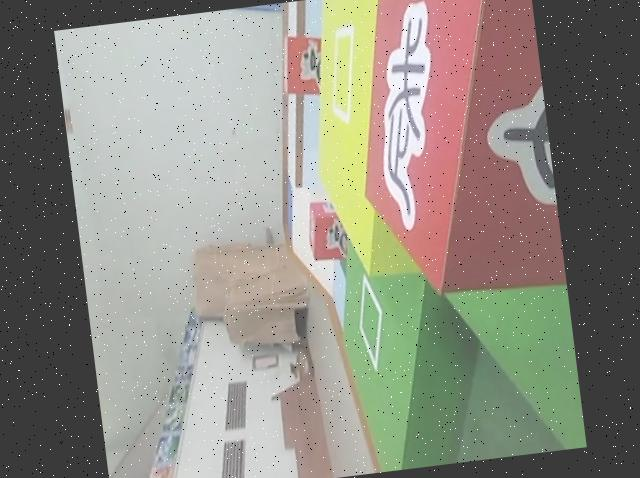R1: (275, 29, 332, 101), (299, 196, 351, 266)
R2 Fake: (333, 0, 567, 314)
